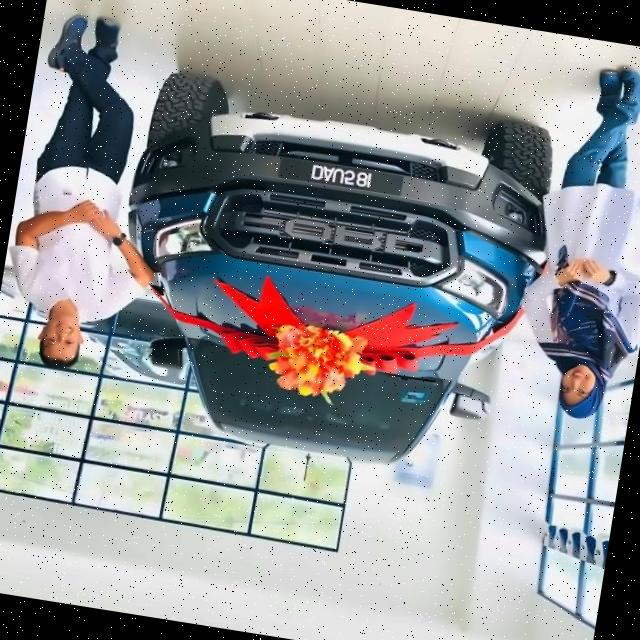License_Plate: (280, 154, 409, 201)
car: (99, 73, 531, 489)
